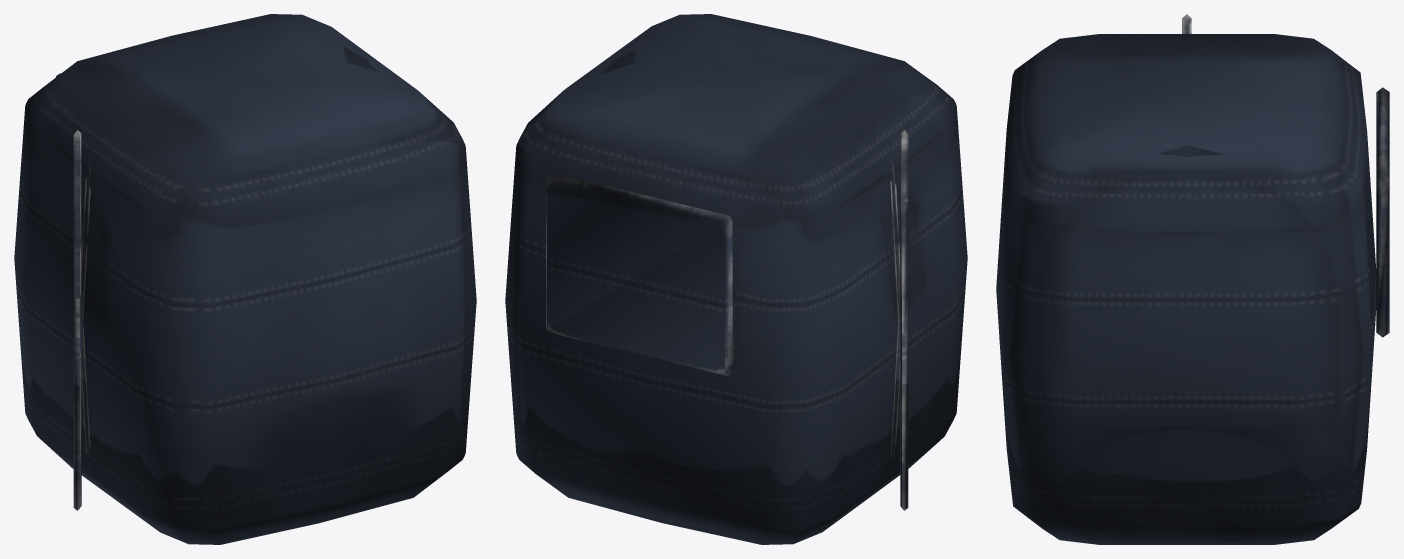
Rendered from MatonImp_PantalonArribaDer.fbx.
3 views of the same model, side by side, from view 1: azimuth 30°, elevation 25°; view 2: azimuth 150°, elevation 25°; view 3: azimuth 270°, elevation 25° (orthographic).
Visible parts, largest first — view 1: MatonImp_PantalonArribaDer; view 2: MatonImp_PantalonArribaDer; view 3: MatonImp_PantalonArribaDer.
Part boxes in pixels (x1=…): MatonImp_PantalonArribaDer: x1=14, y1=14, x2=476, y2=544; MatonImp_PantalonArribaDer: x1=505, y1=14, x2=967, y2=544; MatonImp_PantalonArribaDer: x1=996, y1=14, x2=1389, y2=544.
Bounding box in the file's own units: 1.26 × 1.43 × 1.26.
